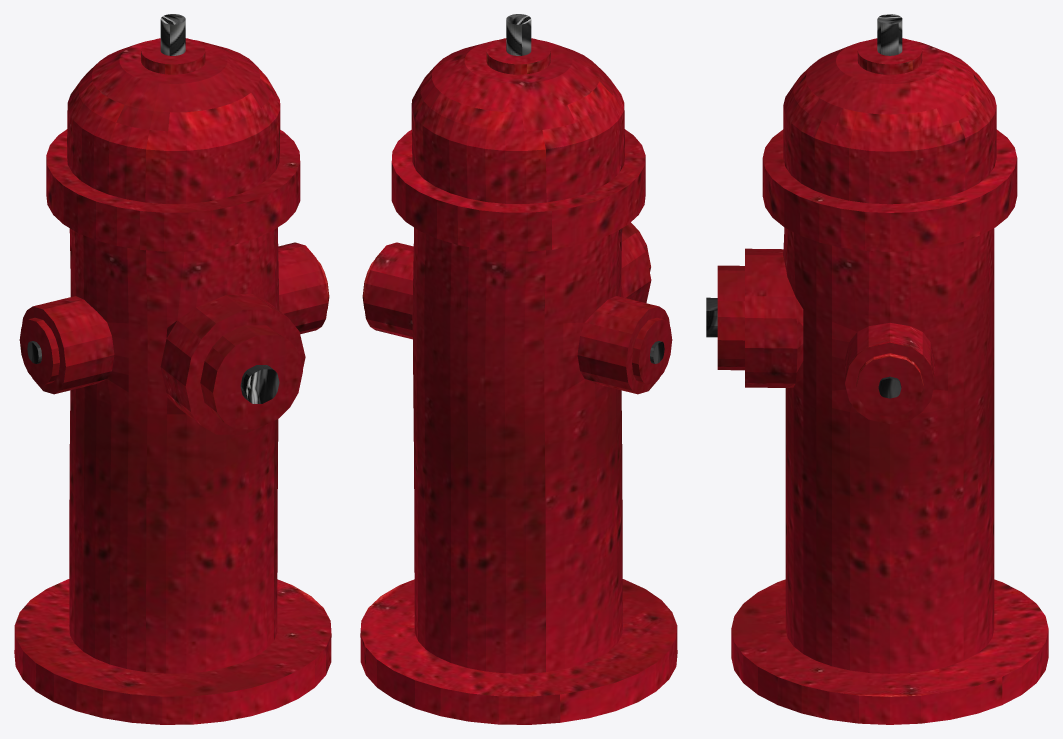
Rendered from hidrante.gltf.
3 views of the same model, side by side, from view 1: azimuth 30°, elevation 25°; view 2: azimuth 150°, elevation 25°; view 3: azimuth 270°, elevation 25° (orthographic).
Parts seen in each view (by area): view 1: Cylinder.004, Cylinder.005; view 2: Cylinder.004, Cylinder.005; view 3: Cylinder.004, Cylinder.005.
Part boxes in pixels (bbox=[...]): Cylinder.004: bbox=[14, 38, 331, 724]; Cylinder.005: bbox=[27, 14, 279, 403]; Cylinder.004: bbox=[360, 38, 677, 724]; Cylinder.005: bbox=[506, 14, 664, 363]; Cylinder.004: bbox=[717, 38, 1048, 724]; Cylinder.005: bbox=[706, 14, 902, 398].
Size of the model in its own units: 0.8041 by 1.73 by 0.8421.
Materials: 2 (2 with a texture image).
